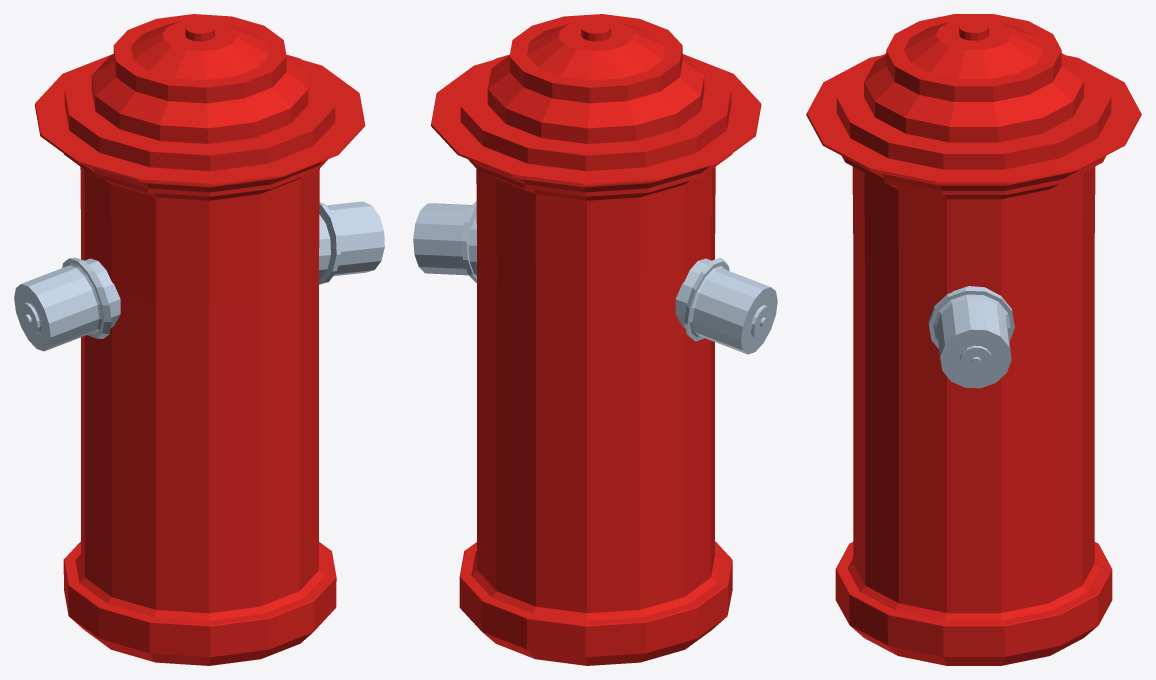
The model's file is hydrant.fbx.
3 renders of one model, left to right at view 1: azimuth 30°, elevation 25°; view 2: azimuth 150°, elevation 25°; view 3: azimuth 270°, elevation 25°, orthographic.
Visible parts, largest first — view 1: Circle; view 2: Circle; view 3: Circle.
Part boxes in pixels (left/top/right/bottom): Circle: left=14, top=14, right=384, bottom=665; Circle: left=413, top=14, right=777, bottom=665; Circle: left=806, top=14, right=1141, bottom=665.
Bounding box in the file's own units: 67.8 × 111 × 57.14.
